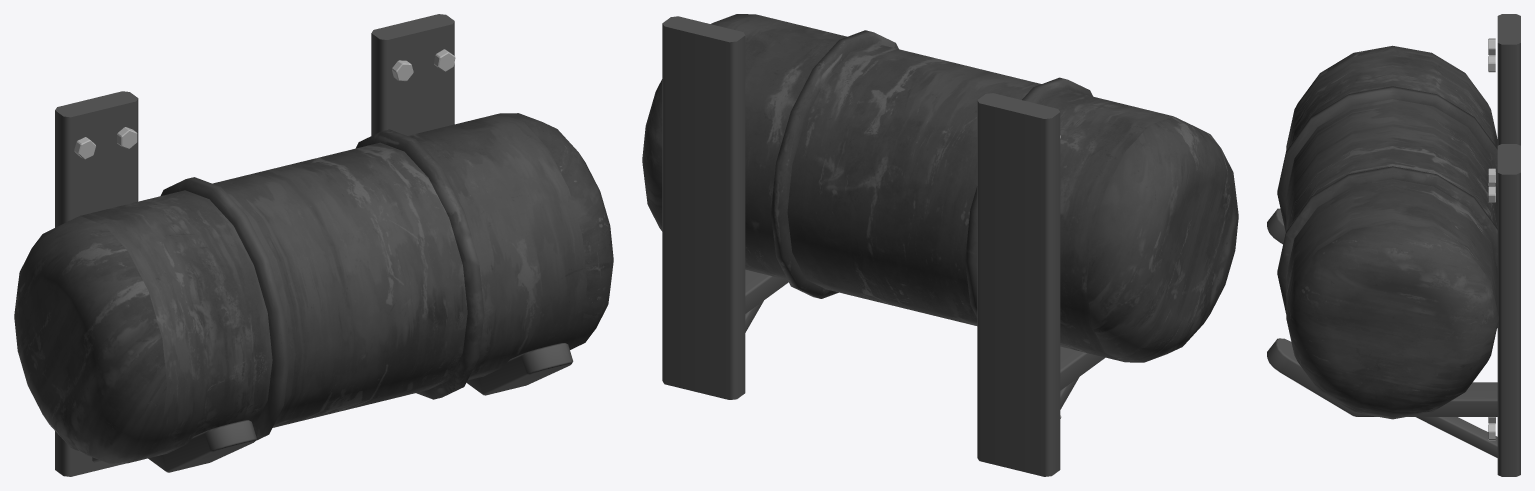
File: wallbarrel_001.fbx
The picture shows the model from 3 angles, left to right: view 1: azimuth 30°, elevation 25°; view 2: azimuth 150°, elevation 25°; view 3: azimuth 270°, elevation 25°; orthographic projection. The views are drawn at different scales.
Visible parts, largest first — view 1: wallbarrel_001; view 2: wallbarrel_001; view 3: wallbarrel_001.
Boxes of the visible parts, bbox=[...] form: wallbarrel_001: bbox=[14, 14, 613, 476]; wallbarrel_001: bbox=[642, 14, 1238, 476]; wallbarrel_001: bbox=[1267, 14, 1520, 476].
Size of the model in its own units: 1907 by 969 by 1274.
